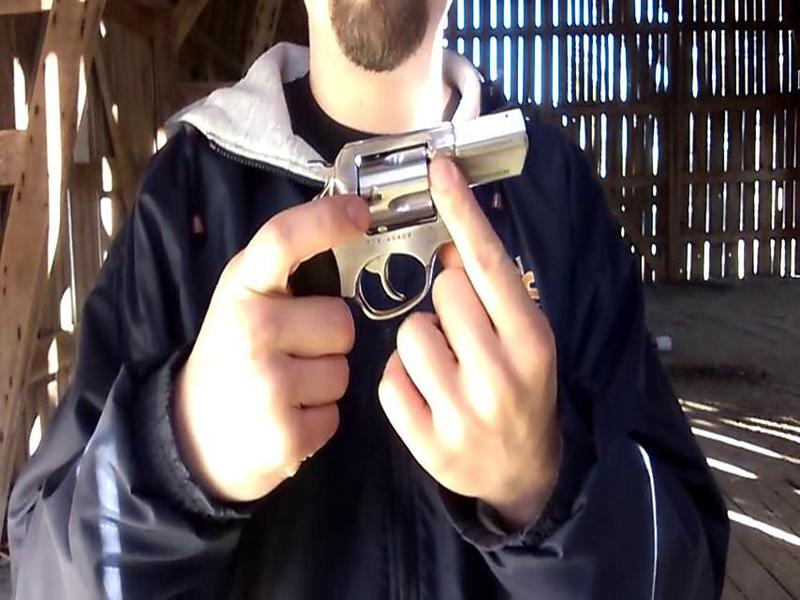Revolver: (271, 87, 527, 391)
